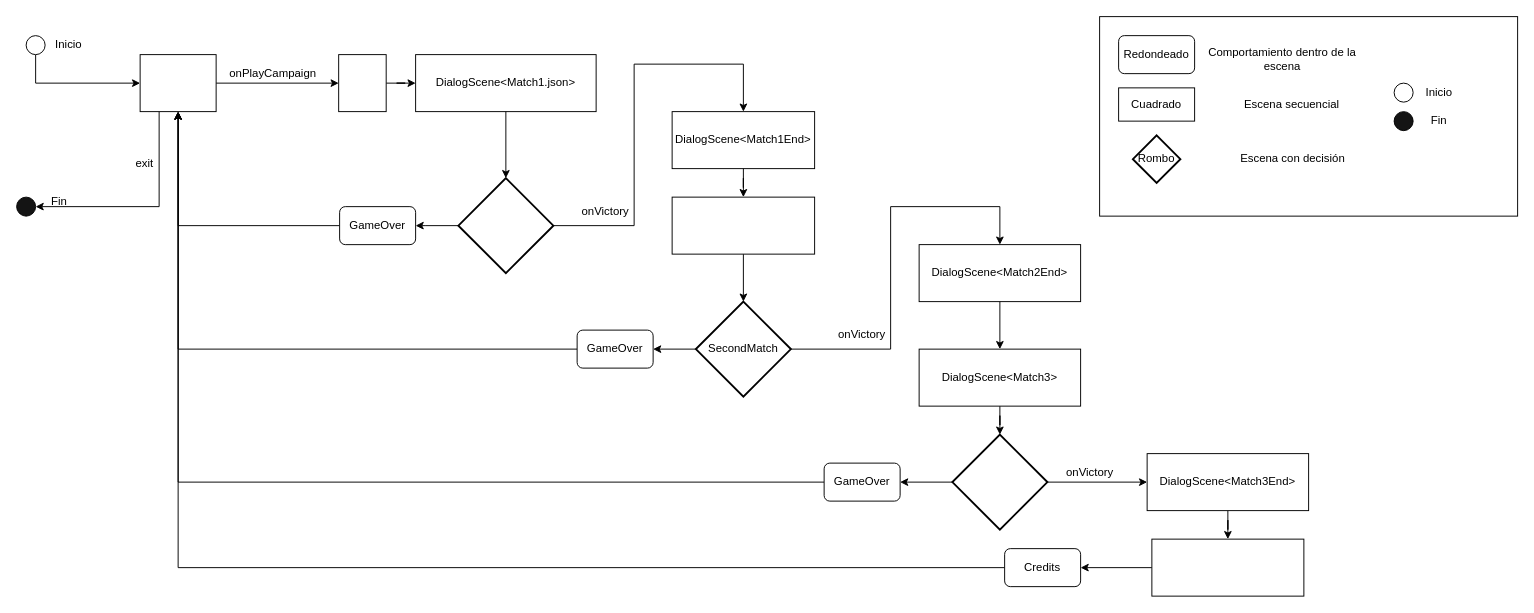
Some shapes in this 1534 by 613 pixel diagram are drawn without their labels. Here are the shapes that lost their labels. From the top down, the centre of each, then its label:
At (177,83): "MainMenu".
At (362,83): "Intro".
At (505,225): "FirstMatch".
At (743,225): "DialogScene<Match2>".
At (999,481): "ThirdMatch".
At (1227,567): "DialogScene<Ending>".
